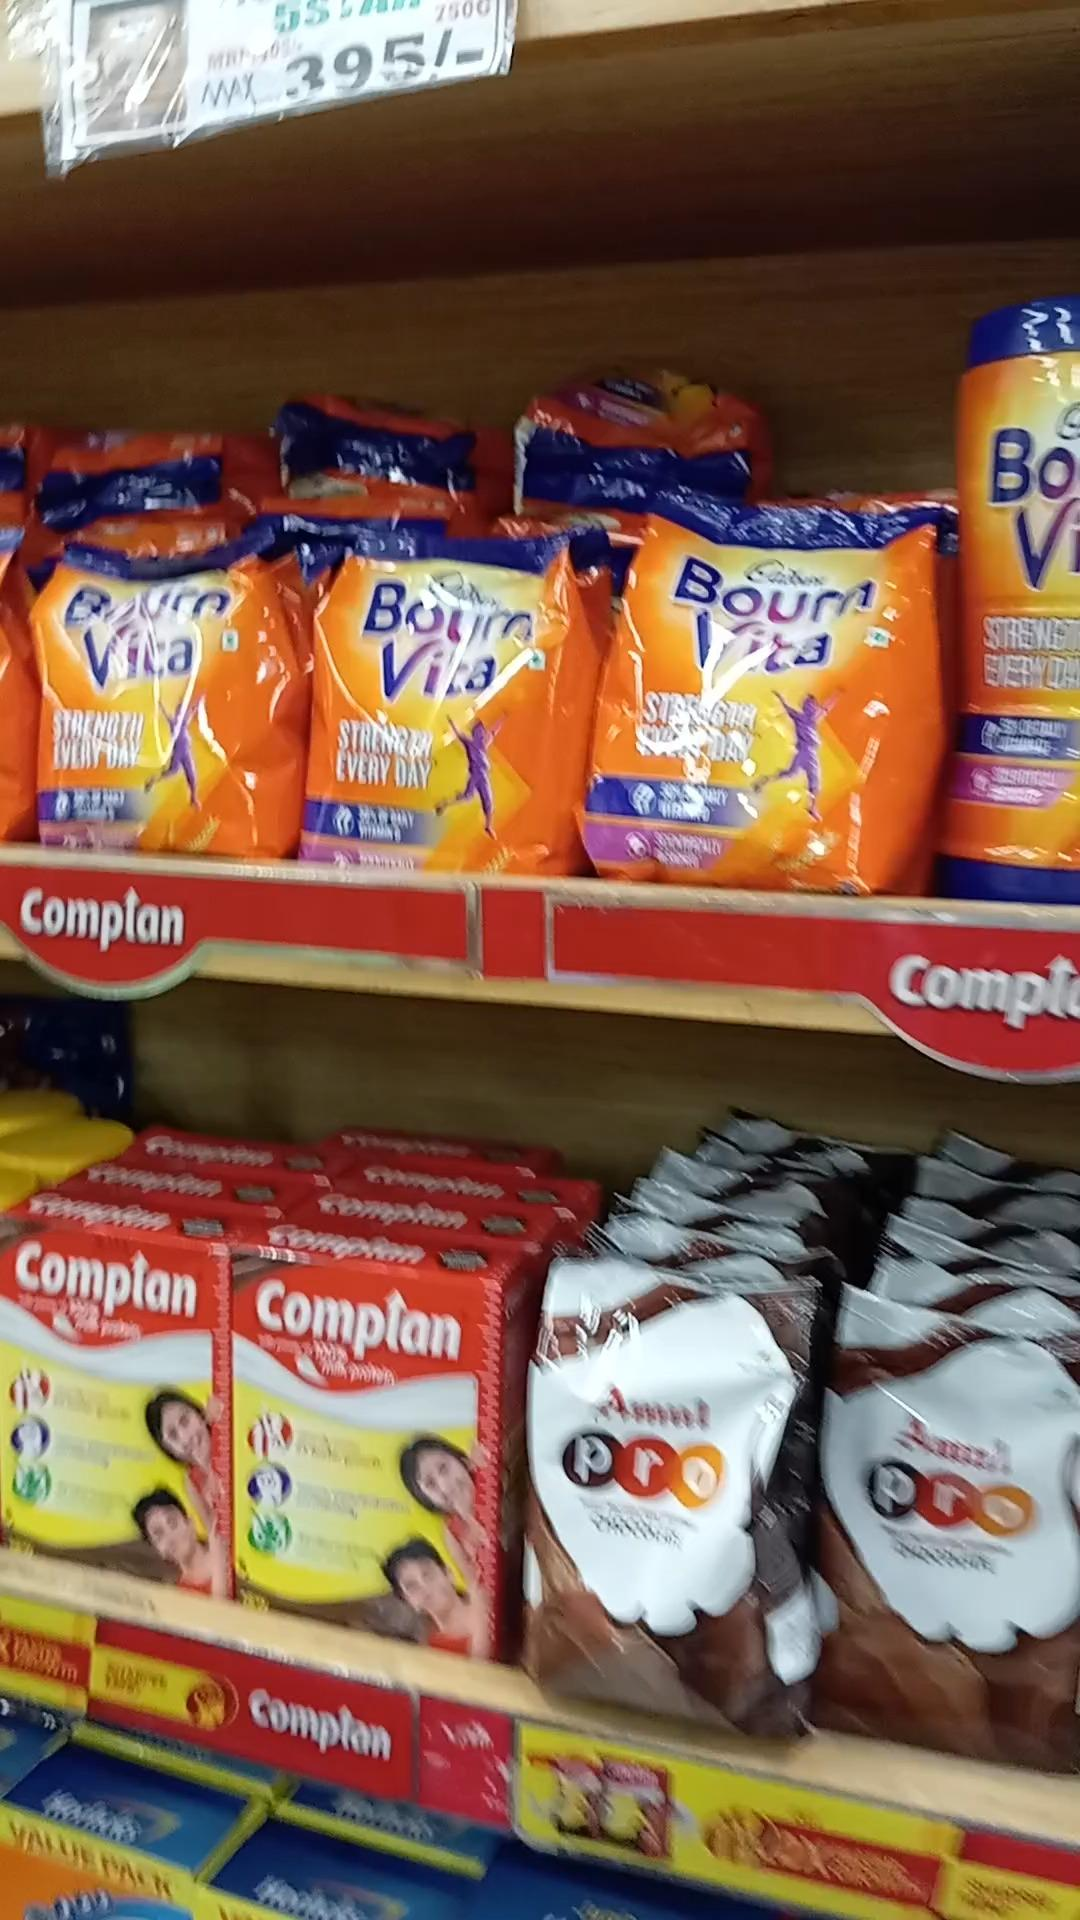BOURN_VITA_500_G_POUCH: (588, 480, 913, 873), (299, 521, 553, 866), (32, 527, 286, 848)
COMPLAN_CHOCOLATE_500_GMS_PACK: (243, 1242, 488, 1631), (0, 1238, 225, 1593)
